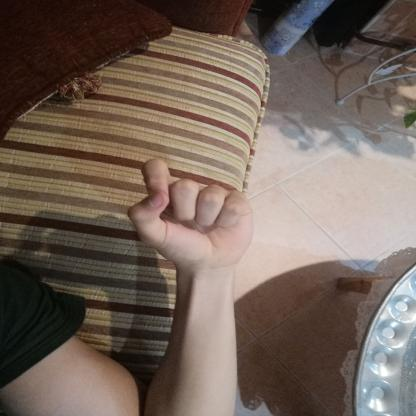FAA: (114, 150, 263, 278)
